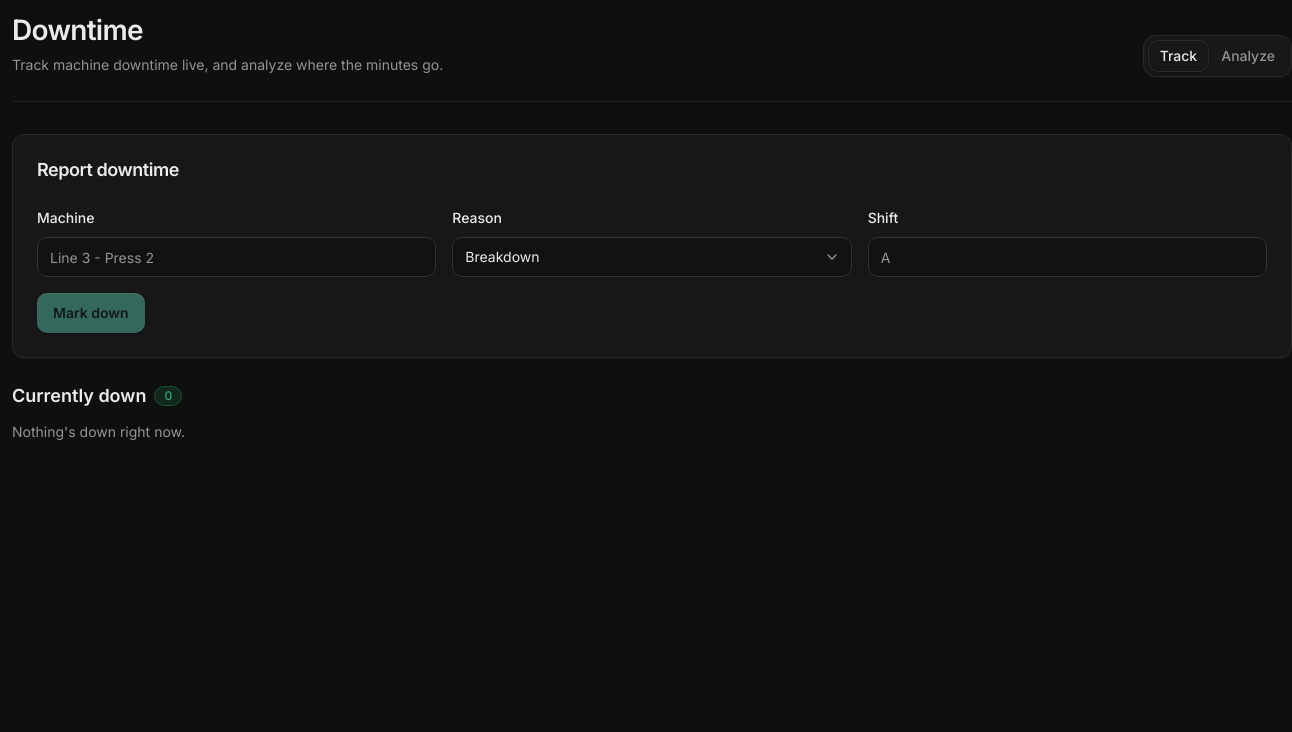
it: Downtime track (org with live tracking) › marks a machine down, posting machine/reason/shift and remembering the shift
Expected: the text "Nothing's down right now." is shown, x1=12 y1=423 x2=185 y2=440
In the field with placeholder "Line 3 - Press 2": (237, 257) x1=37 y1=237 x2=436 y2=277, type "Press 4"
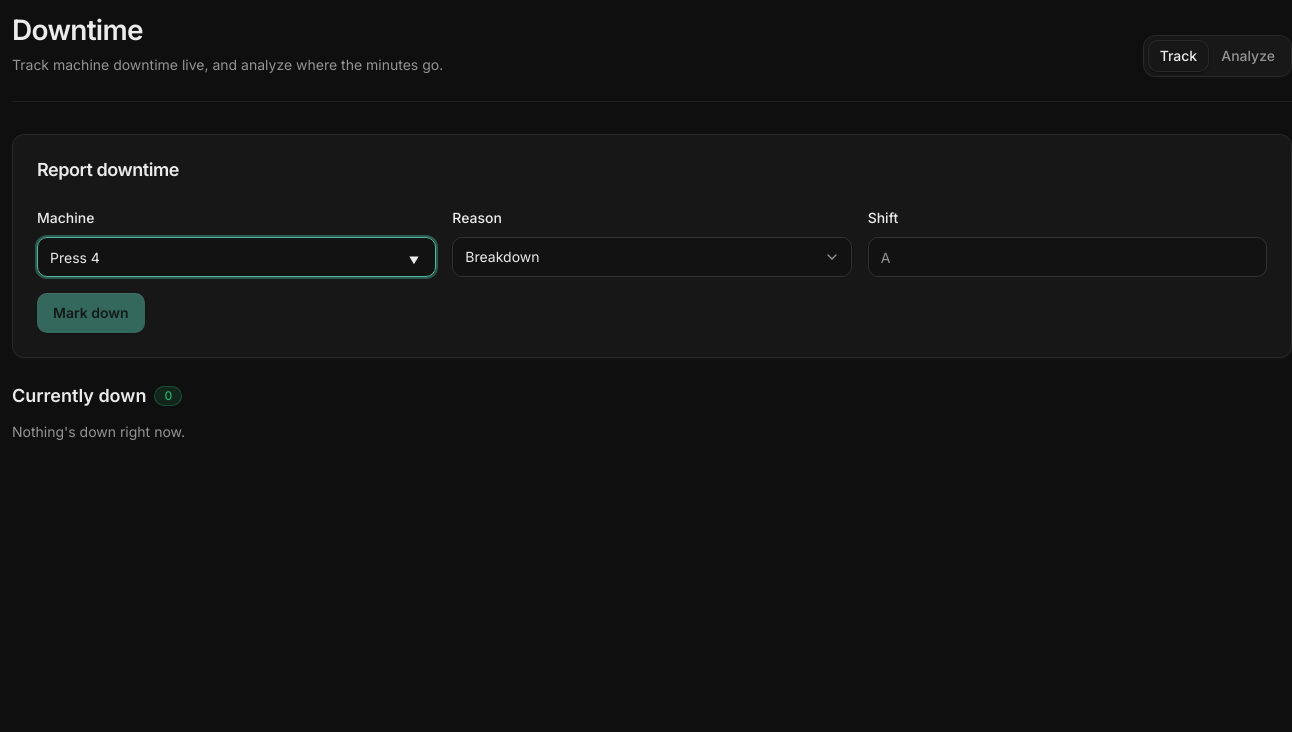
Select "Quality Hold" in the dropdown: (652, 257) x1=452 y1=237 x2=852 y2=277
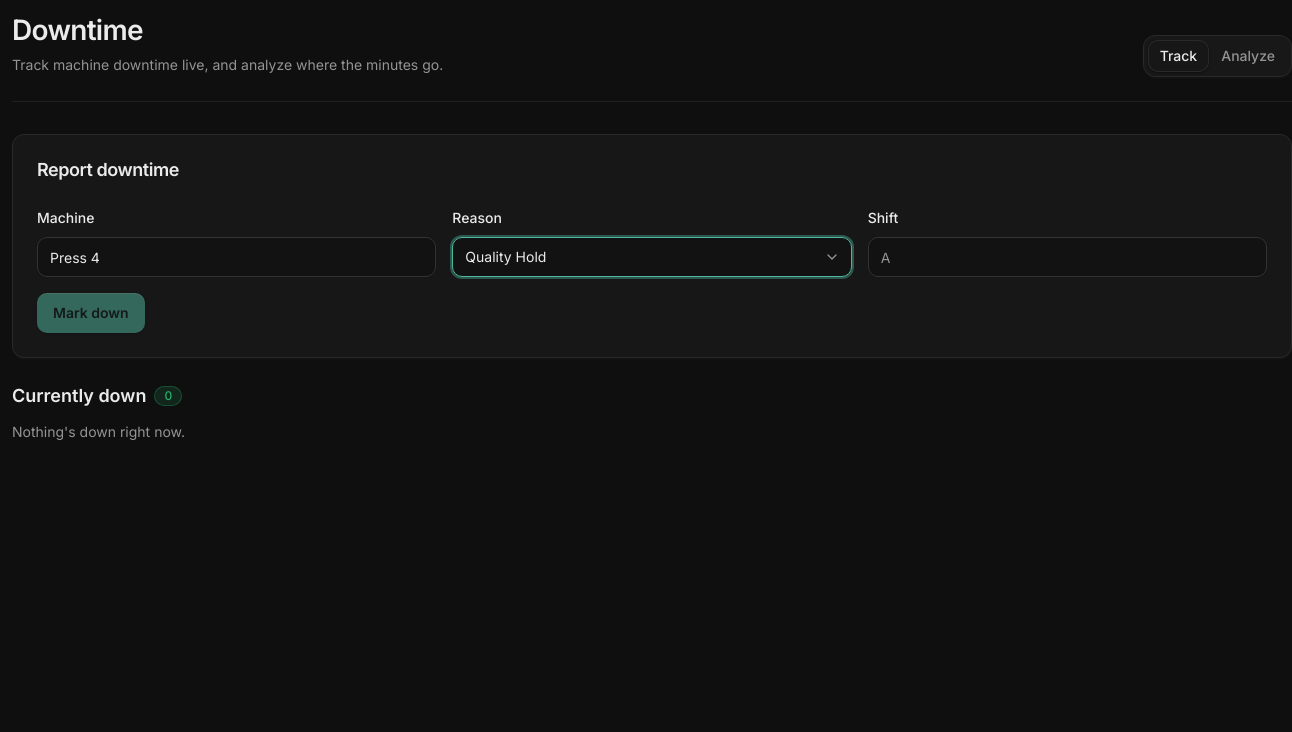
In the field with placeholder "A": (1067, 257) x1=868 y1=237 x2=1267 y2=277, type "B"
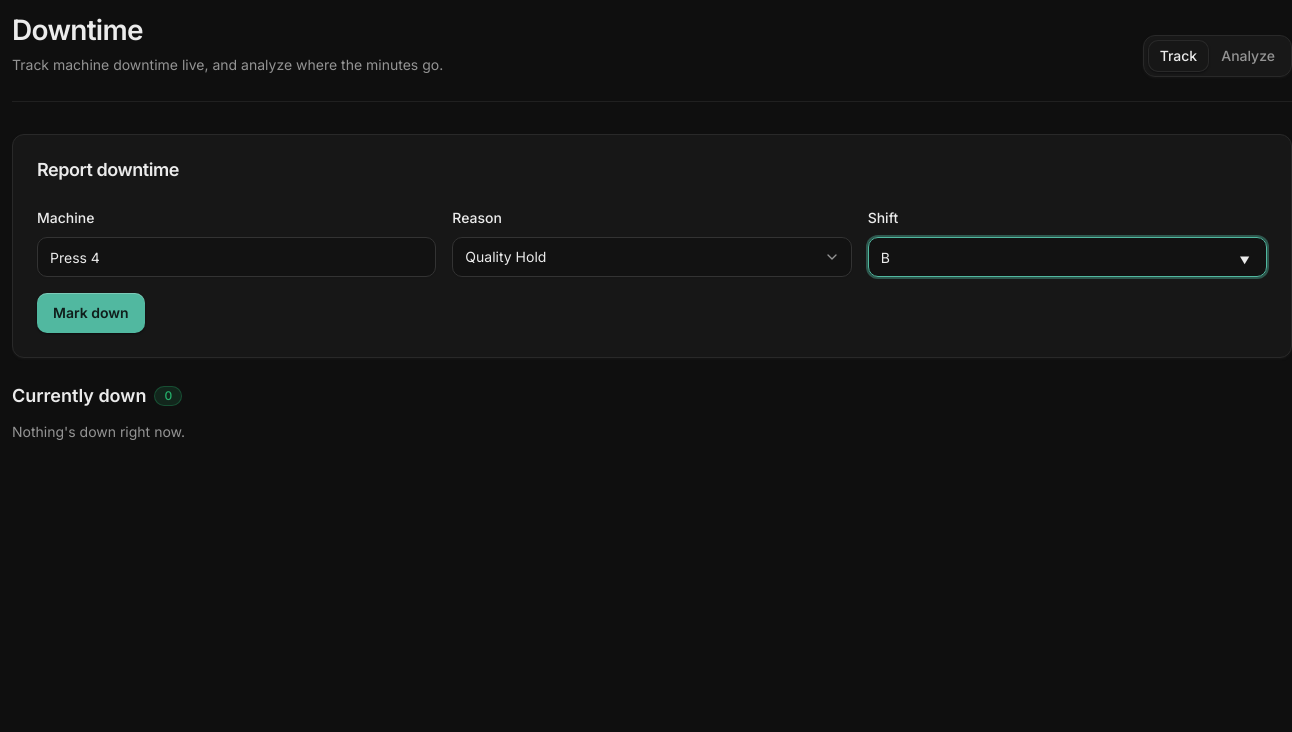
Click the button "Mark down": (91, 313) x1=37 y1=293 x2=145 y2=333
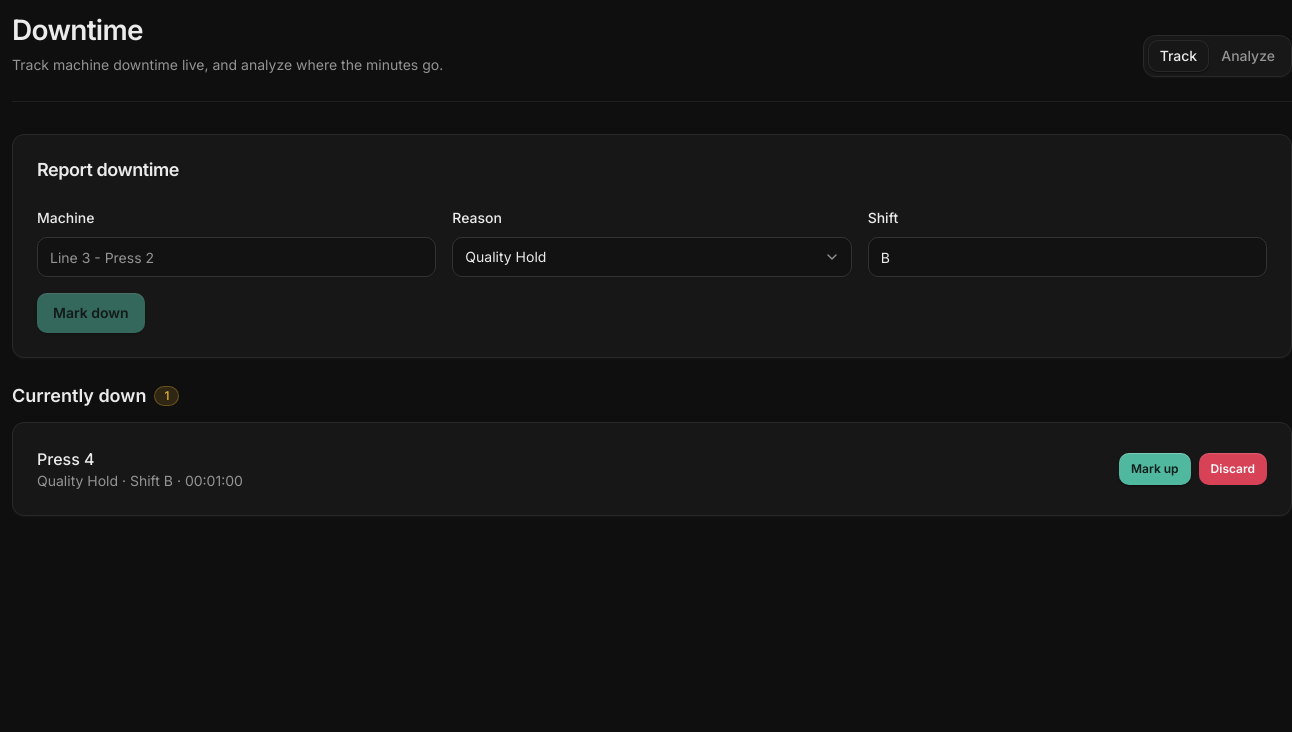
Expected: the text "Press 4" is shown, x1=37 y1=449 x2=94 y2=469
Expected: the text "Quality Hold · Shift B · 00:01:00" is shown, x1=37 y1=471 x2=243 y2=491
Expected: the field with placeholder "Line 3 - Press 2" is empty, x1=37 y1=237 x2=436 y2=277
